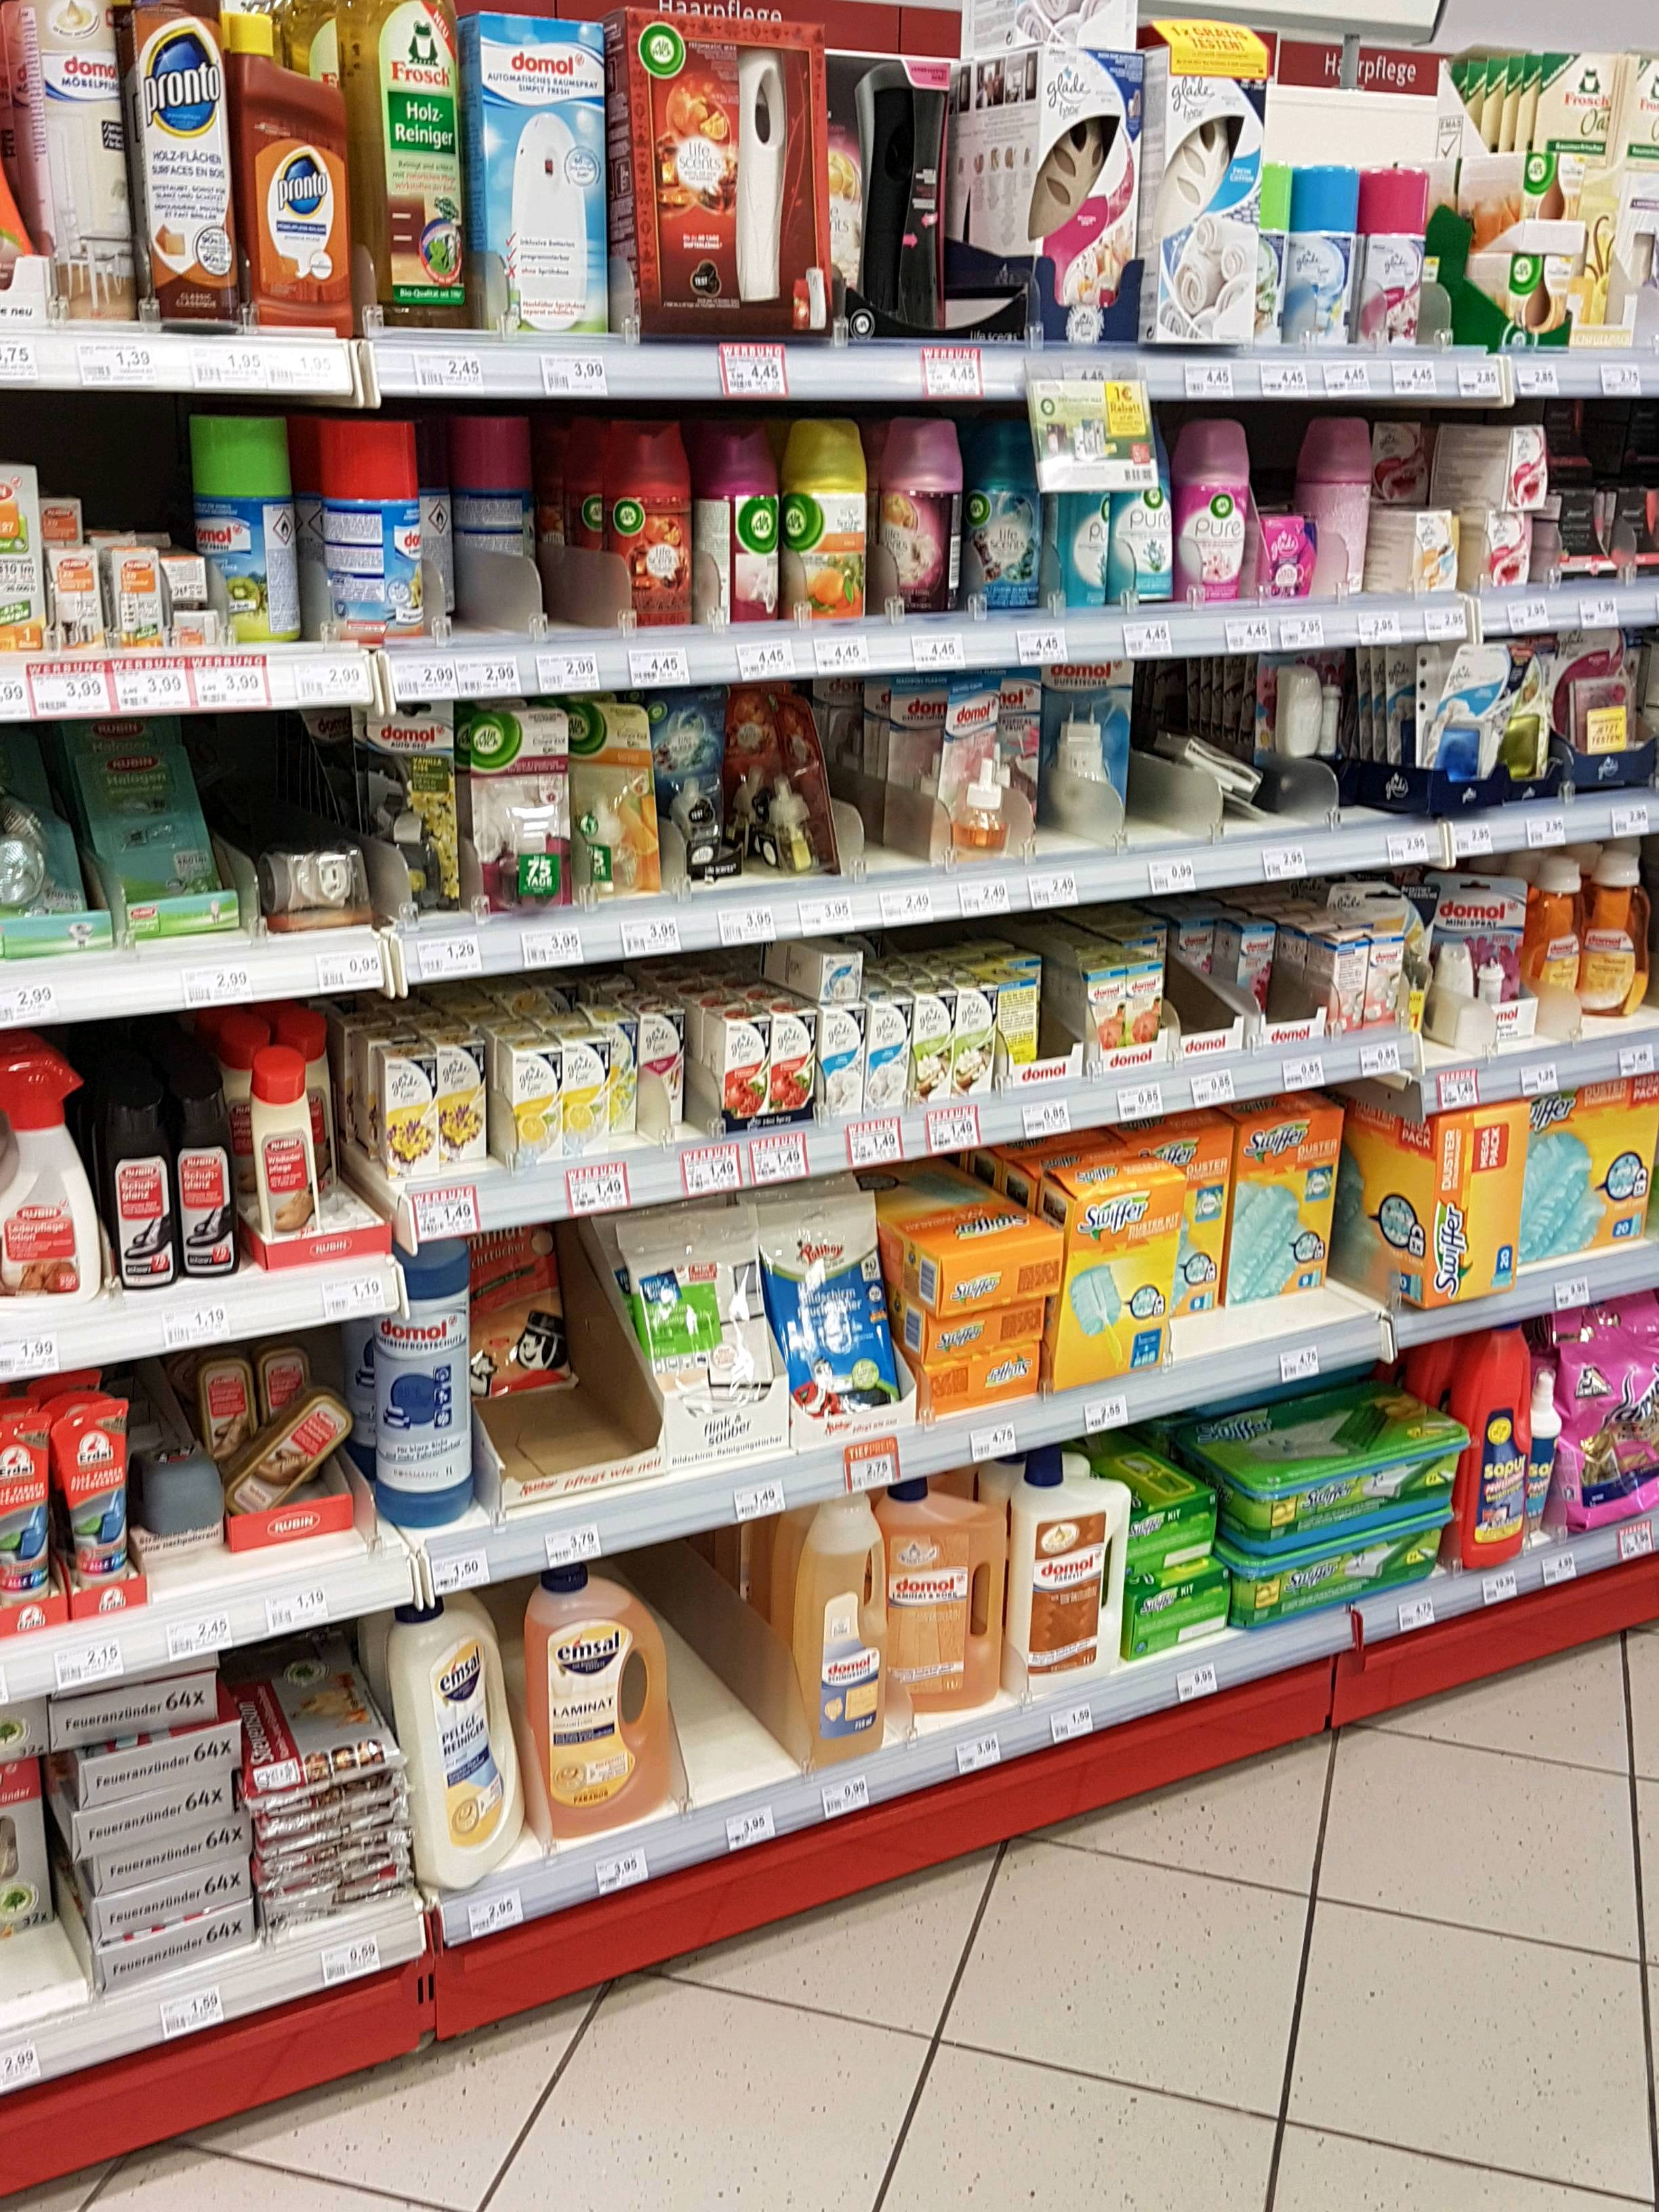product: (626, 10, 835, 340), (474, 10, 613, 334), (235, 10, 355, 329), (521, 1578, 674, 1825), (390, 1601, 523, 1885), (357, 0, 467, 331), (129, 0, 234, 333), (21, 0, 127, 320), (1030, 38, 1136, 348), (626, 1224, 772, 1446), (366, 1240, 479, 1526), (847, 52, 958, 341), (1154, 42, 1258, 347), (882, 1480, 1011, 1714), (0, 1054, 108, 1308), (1246, 1414, 1455, 1541), (777, 1204, 894, 1430), (254, 1735, 389, 1928), (1012, 1460, 1126, 1686), (1520, 1073, 1659, 1251), (190, 413, 296, 641), (791, 1501, 882, 1764), (89, 752, 218, 928), (1223, 1115, 1342, 1305), (1061, 1191, 1182, 1372), (322, 418, 420, 637), (227, 1390, 355, 1550), (471, 718, 575, 909), (450, 411, 540, 617), (369, 700, 455, 918), (601, 425, 692, 629), (875, 418, 964, 615), (1572, 1336, 1659, 1534), (784, 418, 870, 620), (59, 1399, 136, 1623), (695, 428, 782, 625), (1455, 1329, 1525, 1573), (477, 1226, 579, 1392), (1554, 632, 1654, 792), (1431, 1115, 1514, 1303), (45, 1672, 218, 1763), (971, 408, 1047, 610), (657, 688, 739, 876), (1438, 876, 1527, 1043), (1047, 404, 1117, 611), (1040, 665, 1131, 822), (1290, 162, 1366, 347), (573, 707, 652, 887), (767, 697, 842, 878), (939, 686, 1014, 866), (1441, 651, 1523, 815), (91, 1857, 249, 1940), (254, 1055, 317, 1263), (1119, 402, 1182, 608), (66, 1775, 237, 1850), (1260, 657, 1344, 808), (110, 1101, 176, 1291), (0, 1413, 56, 1629), (174, 1094, 237, 1278), (1316, 411, 1377, 596), (1185, 421, 1248, 599), (1527, 852, 1588, 1029), (1371, 165, 1432, 343), (1593, 852, 1656, 1021), (1126, 1564, 1232, 1658), (929, 1245, 1066, 1313), (1157, 728, 1256, 819), (920, 1343, 1044, 1409), (1527, 1364, 1572, 1538), (267, 852, 369, 928), (141, 1460, 221, 1541), (1506, 256, 1574, 352), (387, 1055, 439, 1179), (1520, 155, 1588, 249), (718, 1024, 772, 1134), (45, 552, 103, 655), (443, 1043, 491, 1160), (514, 1049, 561, 1169), (561, 1040, 612, 1151), (1558, 491, 1617, 585), (640, 1012, 688, 1123), (823, 1008, 870, 1123), (868, 1001, 913, 1116), (774, 1015, 819, 1129), (112, 552, 162, 651), (1473, 514, 1535, 589), (913, 995, 955, 1106), (1399, 514, 1459, 592), (1234, 928, 1281, 1026), (1260, 514, 1316, 596), (957, 991, 999, 1096), (999, 984, 1039, 1092), (1082, 970, 1124, 1073), (1126, 960, 1164, 1068), (1502, 428, 1551, 512), (1330, 939, 1366, 1040), (1368, 935, 1403, 1029), (809, 949, 863, 1001)
